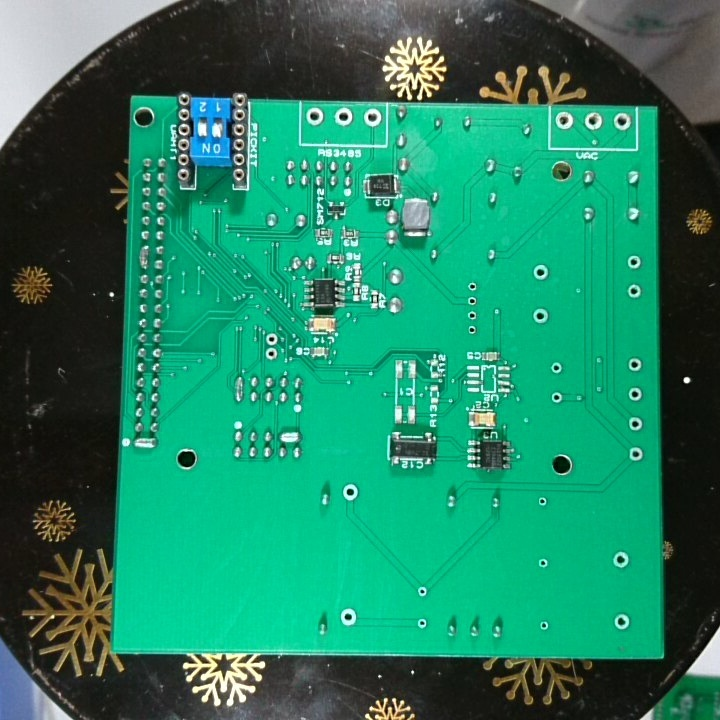F: (333, 105, 357, 129), (304, 106, 327, 129), (582, 109, 605, 132), (362, 106, 384, 129), (612, 110, 633, 133), (531, 261, 552, 284), (610, 549, 632, 570), (340, 481, 361, 503), (337, 607, 359, 628), (554, 109, 574, 132), (531, 306, 551, 327), (612, 611, 631, 631), (625, 280, 643, 301), (627, 444, 646, 463), (627, 385, 645, 405), (627, 414, 645, 434), (625, 252, 642, 271), (627, 356, 644, 374), (548, 358, 565, 376), (262, 346, 280, 363), (548, 389, 565, 406), (414, 615, 431, 632), (262, 331, 279, 348), (465, 292, 481, 309), (534, 494, 550, 510), (464, 323, 480, 339), (535, 555, 550, 571), (465, 278, 481, 293), (537, 618, 551, 633), (464, 309, 479, 323), (415, 583, 428, 599)
P: (231, 374, 246, 403), (131, 435, 159, 450), (137, 243, 151, 272), (277, 429, 303, 443)
